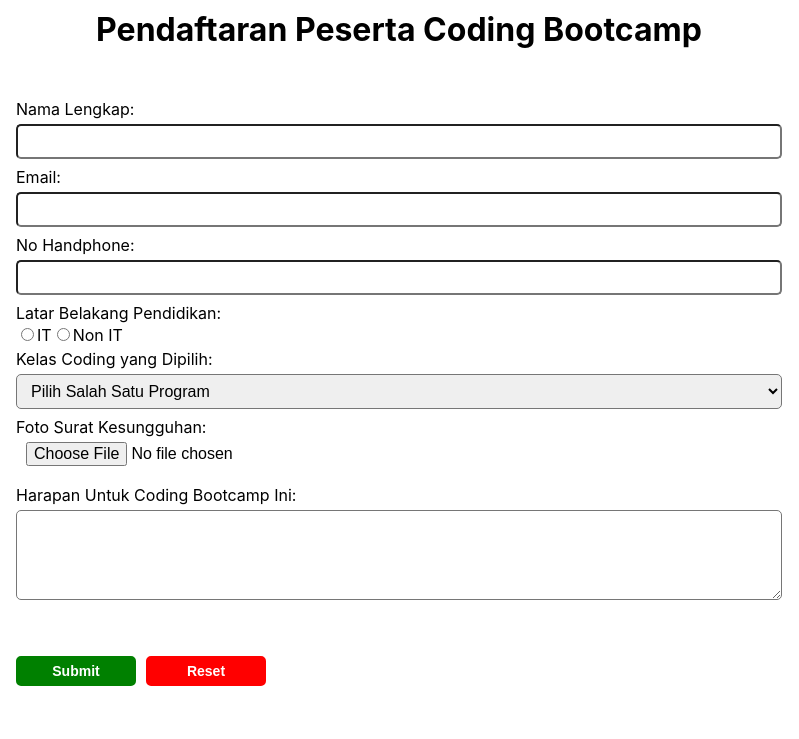
it: Form › validated input nama
The width and height of the screenshot is (799, 739).
Type "Fad1llah" into the field with test id "nama".
click(399, 142); type("Fad1llah")  # box [16,124,782,159]
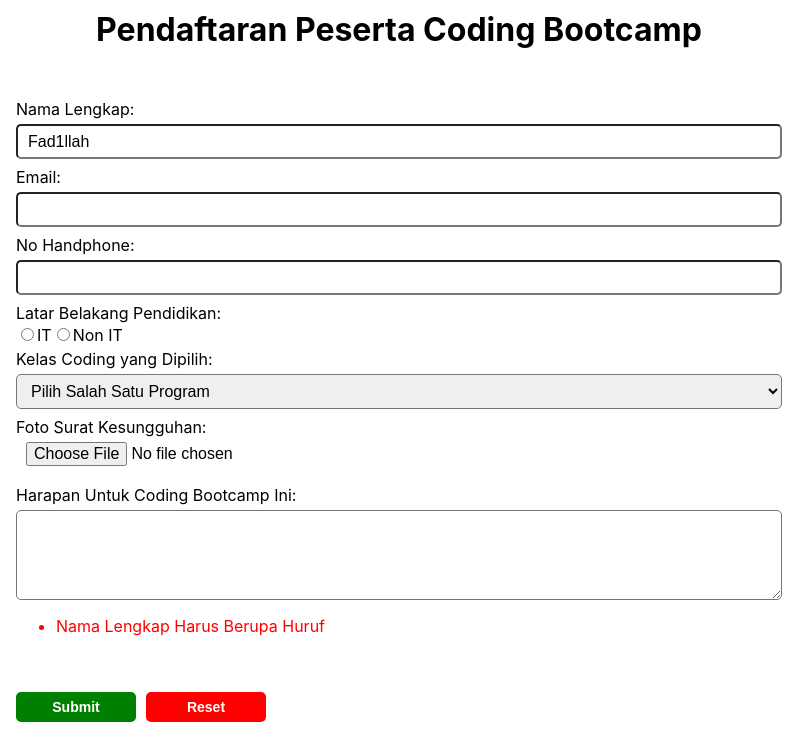
Now the list item "Nama Lengkap Harus Berupa Huruf" is shown, box [56,616,325,636]
